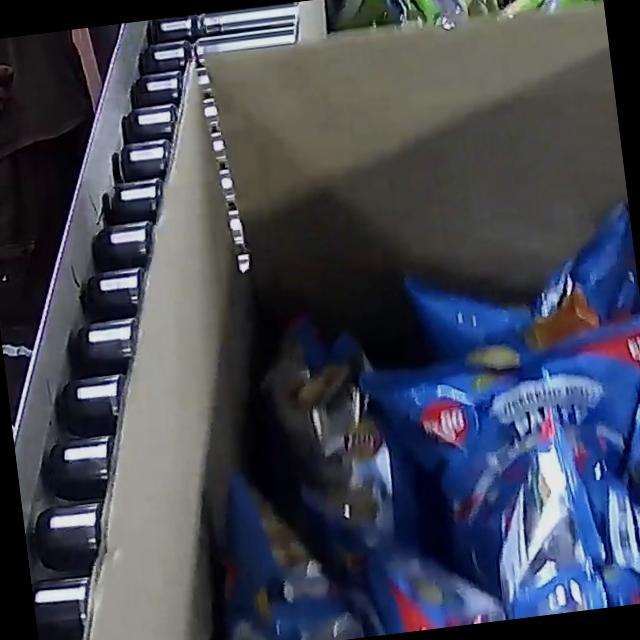paprika: (129, 197, 640, 640)
yogurt: (324, 0, 603, 38)
